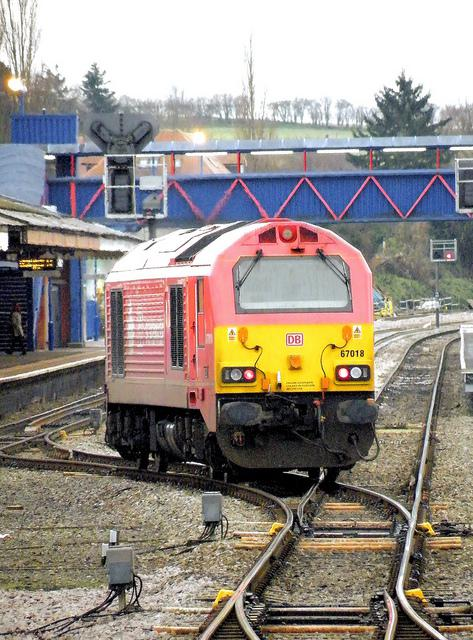Train: (90, 222, 387, 478)
